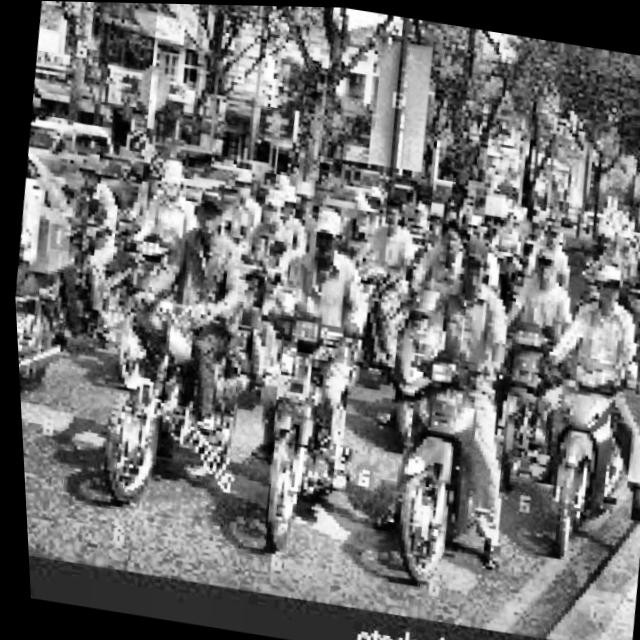motorcycle: (333, 311, 533, 587), (73, 281, 255, 515), (211, 291, 368, 557), (504, 320, 640, 571), (10, 239, 75, 399), (585, 254, 640, 365)
